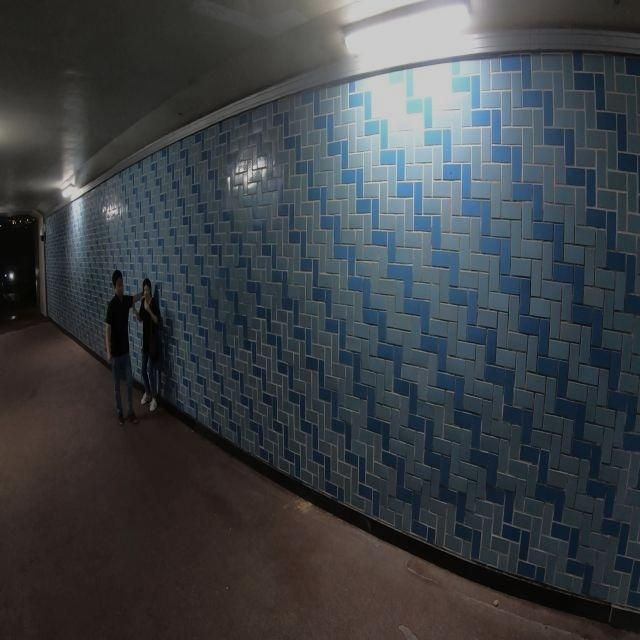fight: (103, 271, 166, 424)
